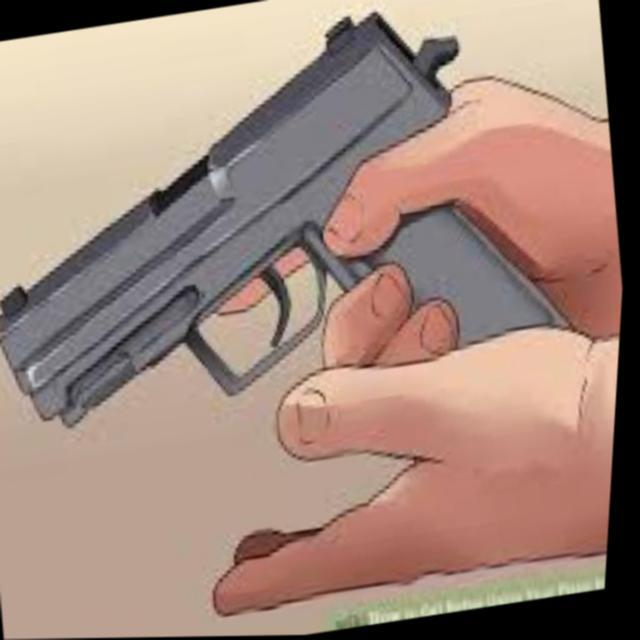weapon: (0, 0, 505, 438)
